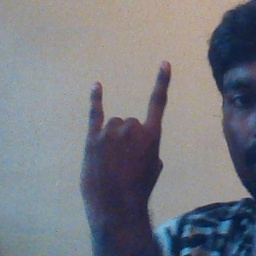V: (78, 58, 175, 205)
